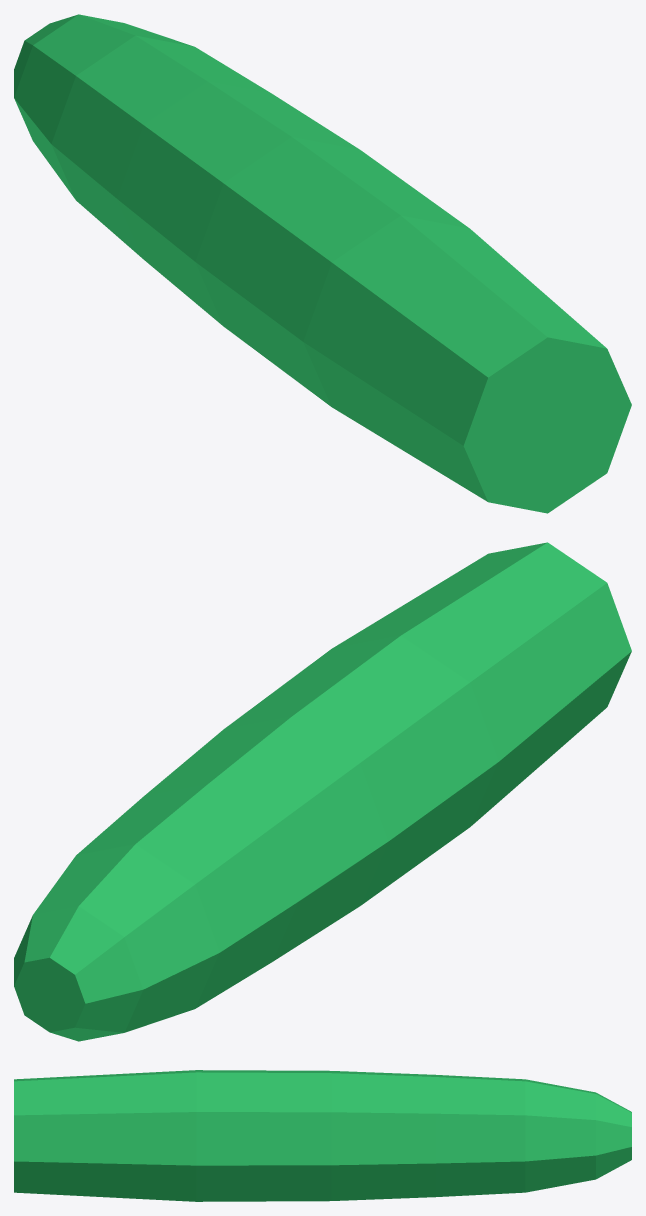
The model's file is BigCactus_1.fbx.
3 views of the same model, one above another, from view 1: azimuth 30°, elevation 25°; view 2: azimuth 150°, elevation 25°; view 3: azimuth 270°, elevation 25° (orthographic). The views are drawn at different scales.
Visible parts, largest first — view 1: BigCactus_1; view 2: BigCactus_1; view 3: BigCactus_1.
Boxes of the visible parts, x1,y1,x2,y2 form: BigCactus_1: (14, 14, 631, 513); BigCactus_1: (14, 542, 631, 1041); BigCactus_1: (14, 1070, 631, 1201).
Bounding box in the file's own units: 72.17 × 72.17 × 318.
